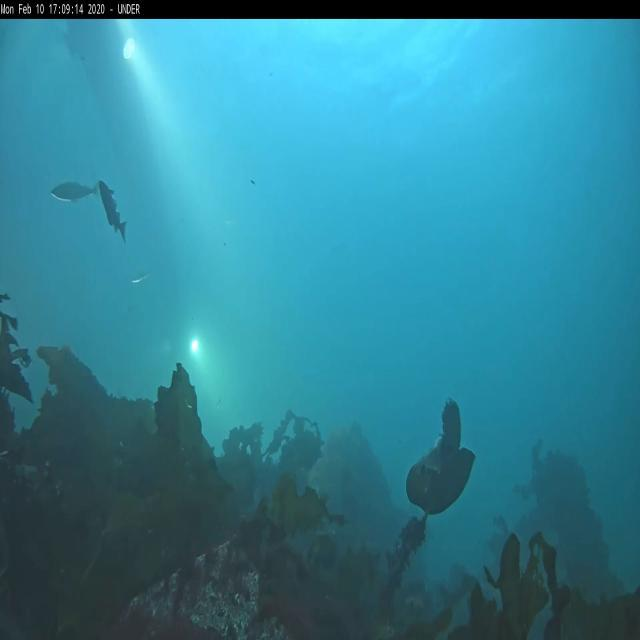fish: (98, 180, 128, 242), (51, 180, 98, 206), (130, 271, 148, 284)
